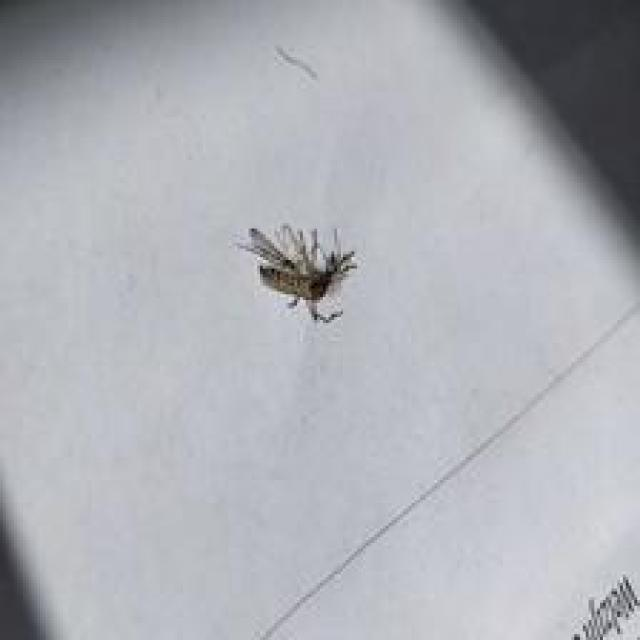Culex: (233, 222, 358, 324)
